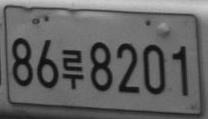0: (142, 43, 166, 95)
1: (169, 45, 193, 97)
2: (115, 41, 141, 93)
6: (36, 39, 60, 89)
8: (89, 41, 114, 92), (10, 37, 34, 86)
루: (61, 49, 85, 89)
